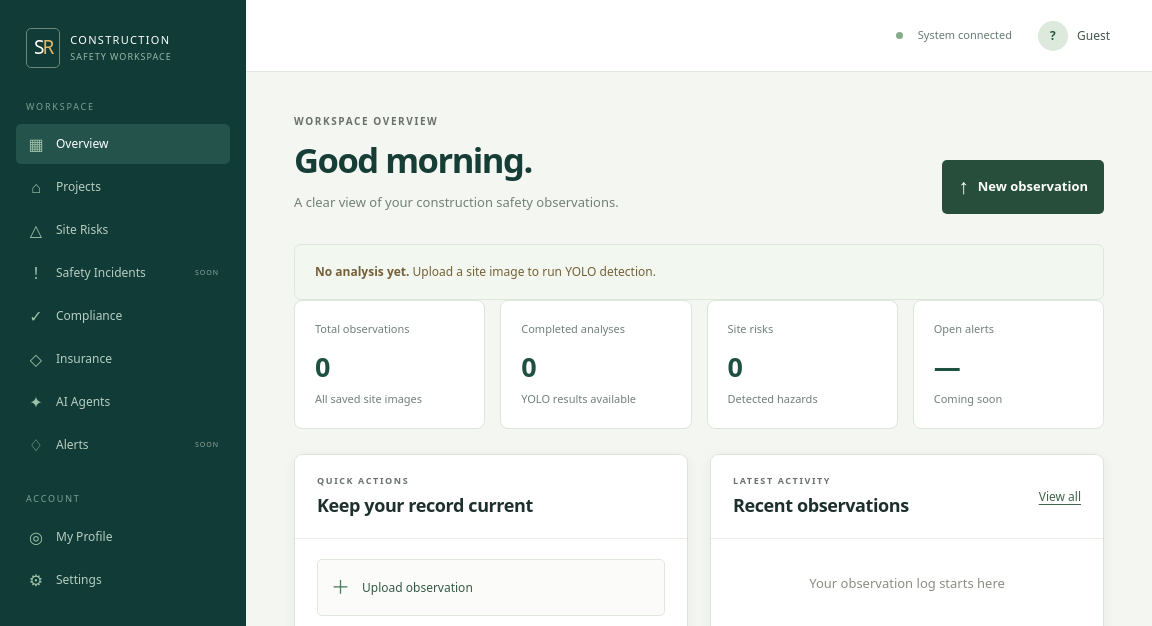
Test: workspace dashboard › navigates to placeholder modules through the hash sidebar
This screenshot has width=1152, height=626.
Step 1. Click the link "⌂ Projects" → x=66, y=187, box top-left (31, 176), bottom-right (101, 198)
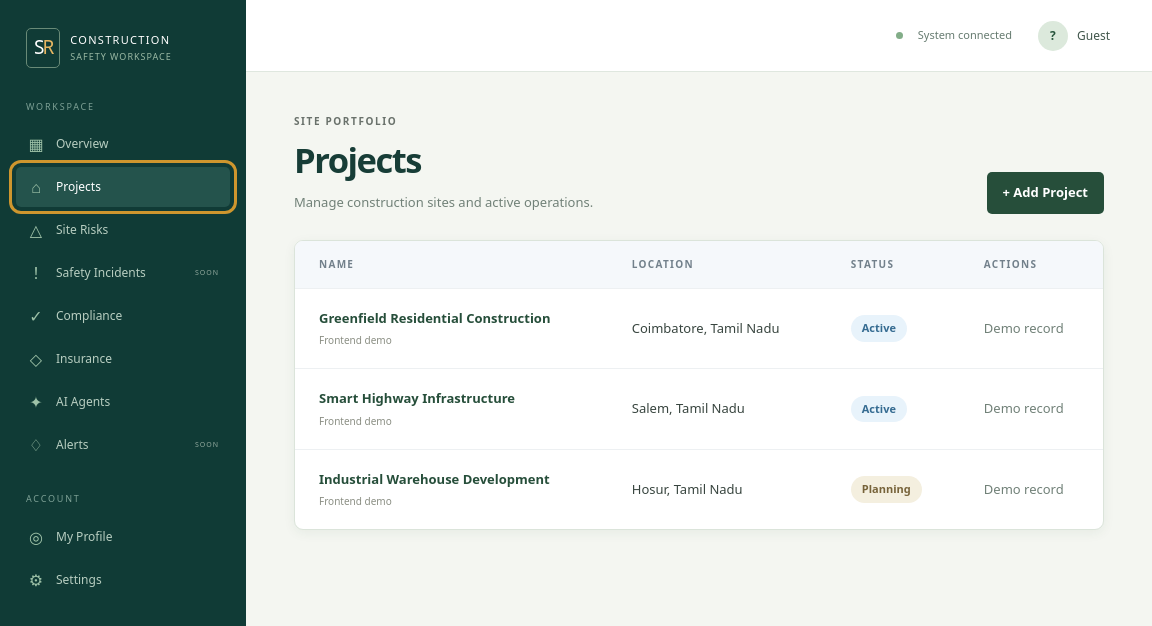
Check: the text "SITE PORTFOLIO" is shown, box top-left (294, 114), bottom-right (397, 128)
Check: the text "Manage construction sites and active operations." is shown, box top-left (294, 192), bottom-right (593, 214)
Check: the button "Greenfield Residential Construction" is shown, box top-left (319, 309), bottom-right (550, 328)
Step 2. Click the link "◎ My Profile" → x=71, y=536, box top-left (29, 526), bottom-right (112, 548)
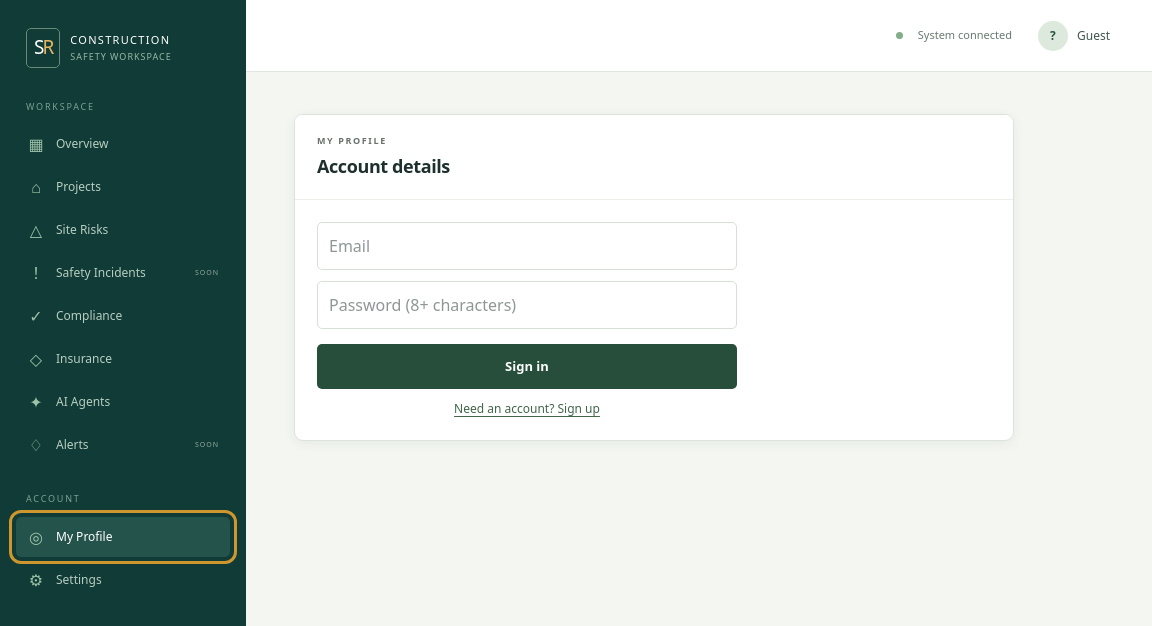
Check: the heading "Account details" is shown, box top-left (317, 152), bottom-right (450, 180)
